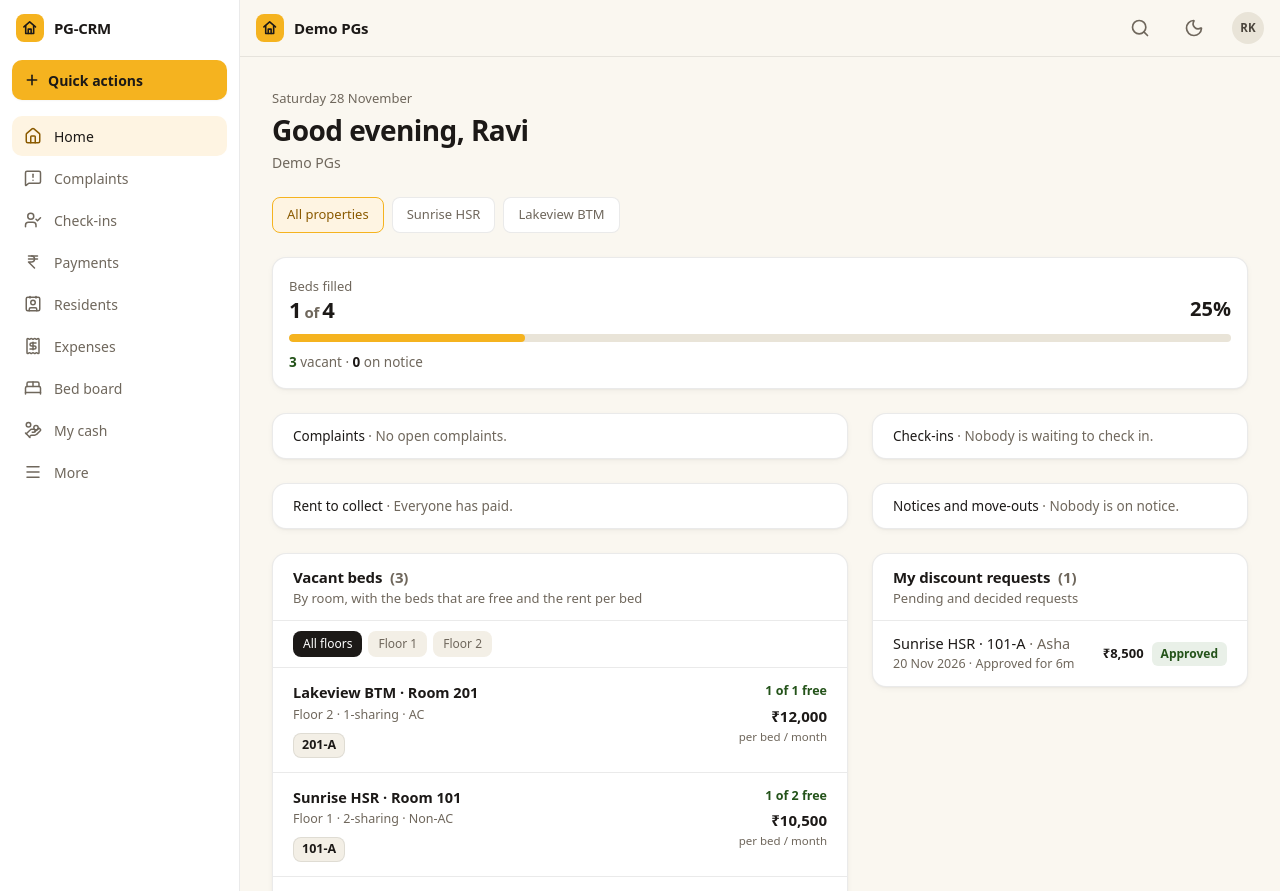
Test: FE-04 Home screens › [FE-04/AC2] Caretaker home shows vacant-bed count and list grouped by room for selected property
Check: the text "(3)" is shown, box [390, 567, 408, 587]
Check: the text "Sunrise HSR · Room 101" is shown, box [293, 786, 461, 808]
Click the button "Sunrise HSR".
click(444, 214)  # box [392, 196, 495, 232]
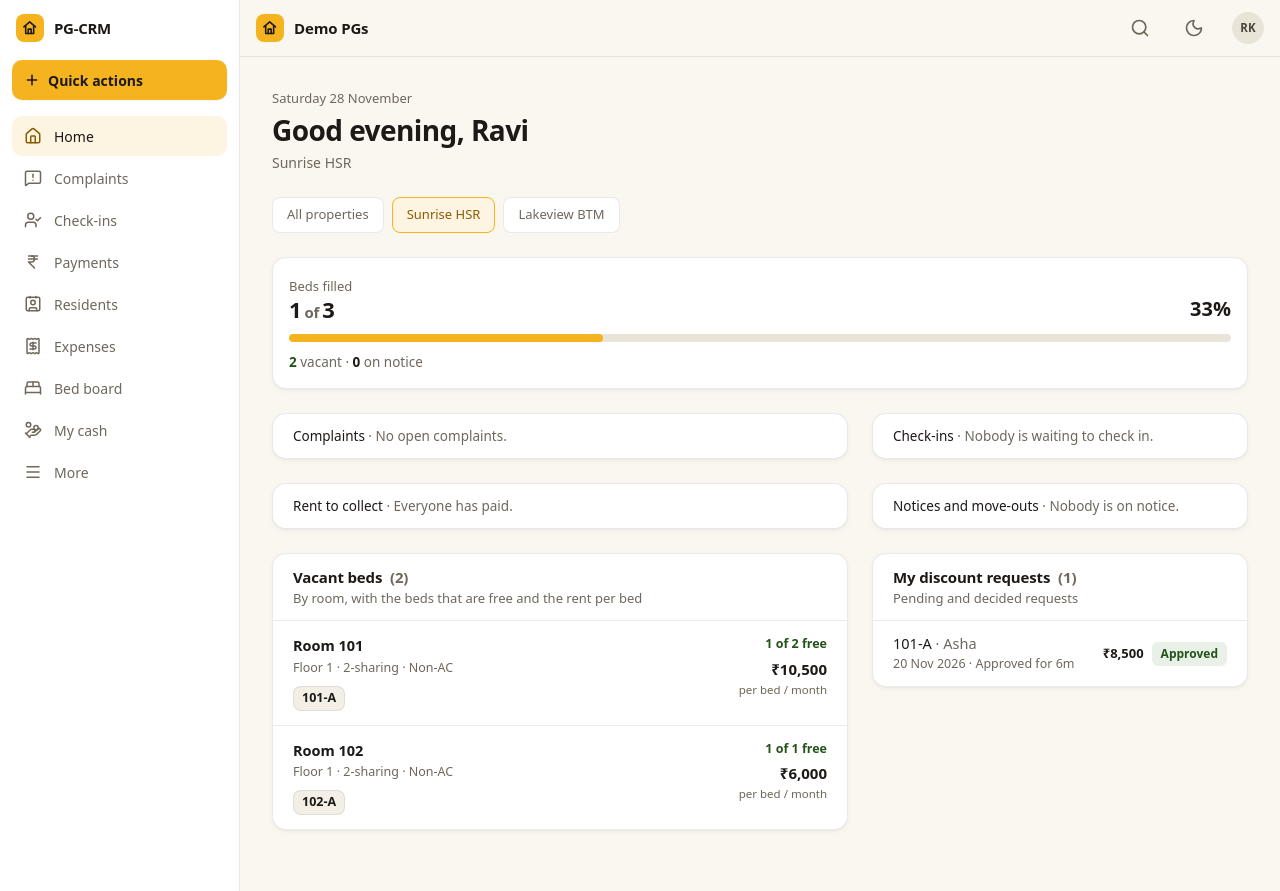
Check: the text "(2)" is shown, box [390, 567, 408, 587]
Check: the text "201-A" is gone
